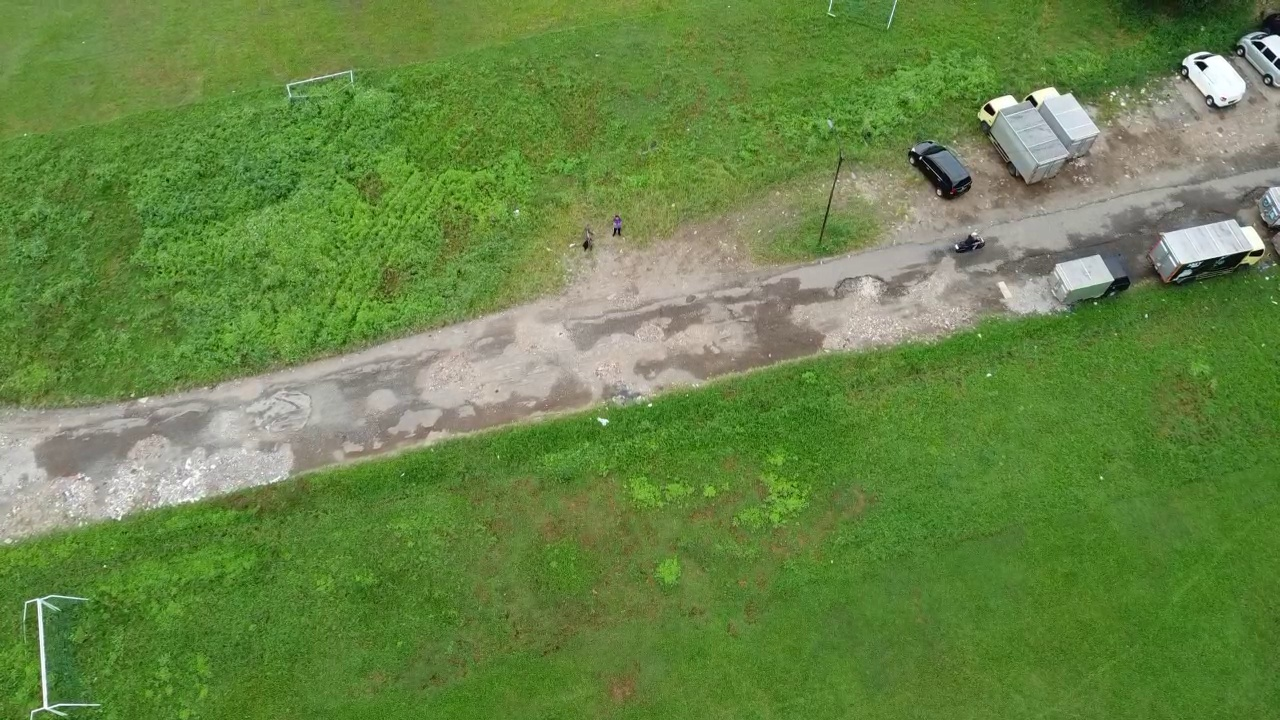mobil: (1177, 46, 1248, 124), (903, 133, 977, 203), (1231, 26, 1280, 94)
